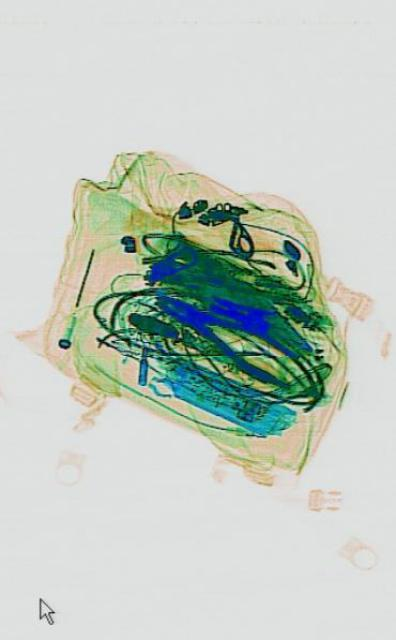Pliers: (147, 269, 297, 397)
